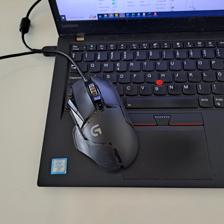mouse: (66, 75, 140, 171)
